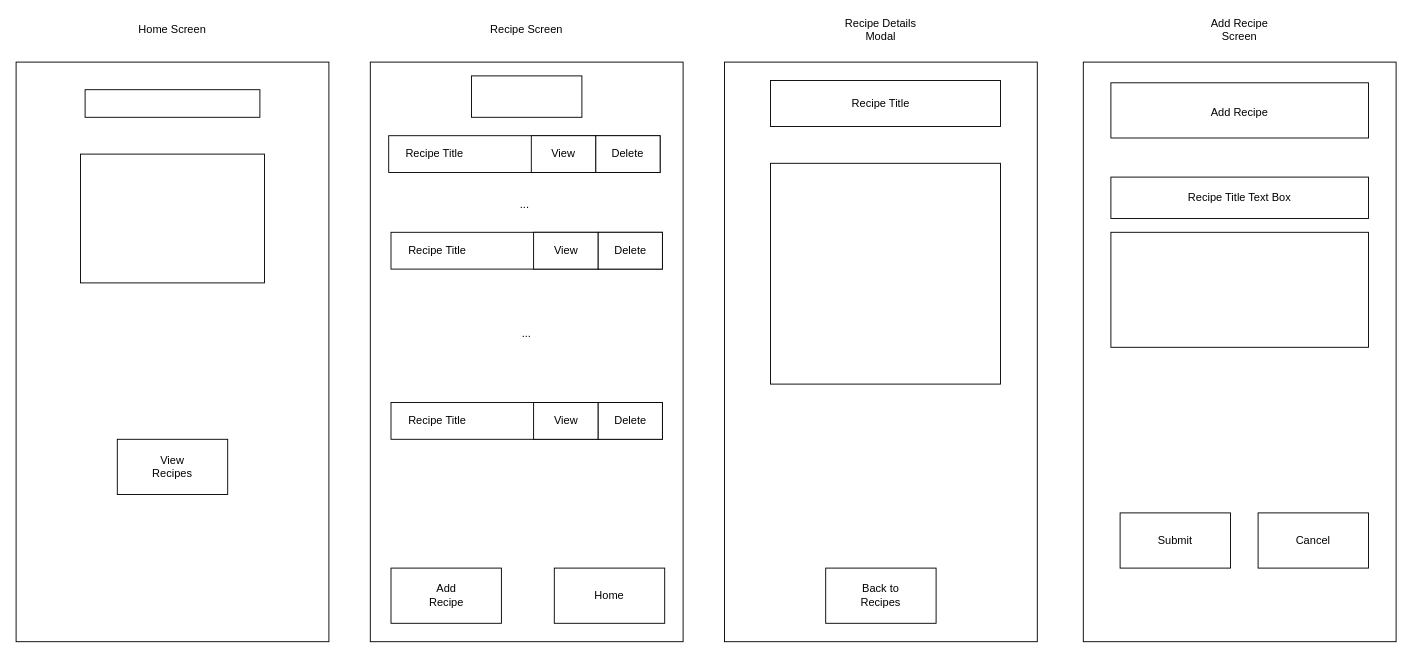
Image size: 1412x658. Some labels were removed from this diagram. The centre of each missing label's shape, as x and y in pixels:
Home Title: the point at 172,103
Image: the point at 172,218
Recipe Steps: the point at 885,273
Recipe Steps Text Box: the point at 1239,289
Recipes: the point at 526,96
